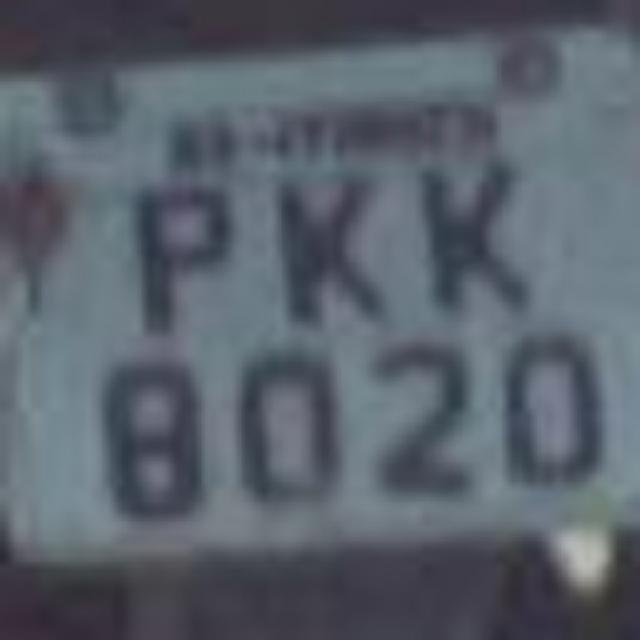0: (472, 324, 620, 516), (220, 336, 348, 516)
2: (348, 340, 484, 508)
8: (80, 331, 212, 524)
K: (260, 160, 405, 335), (405, 152, 540, 332)
P: (116, 160, 249, 340)
